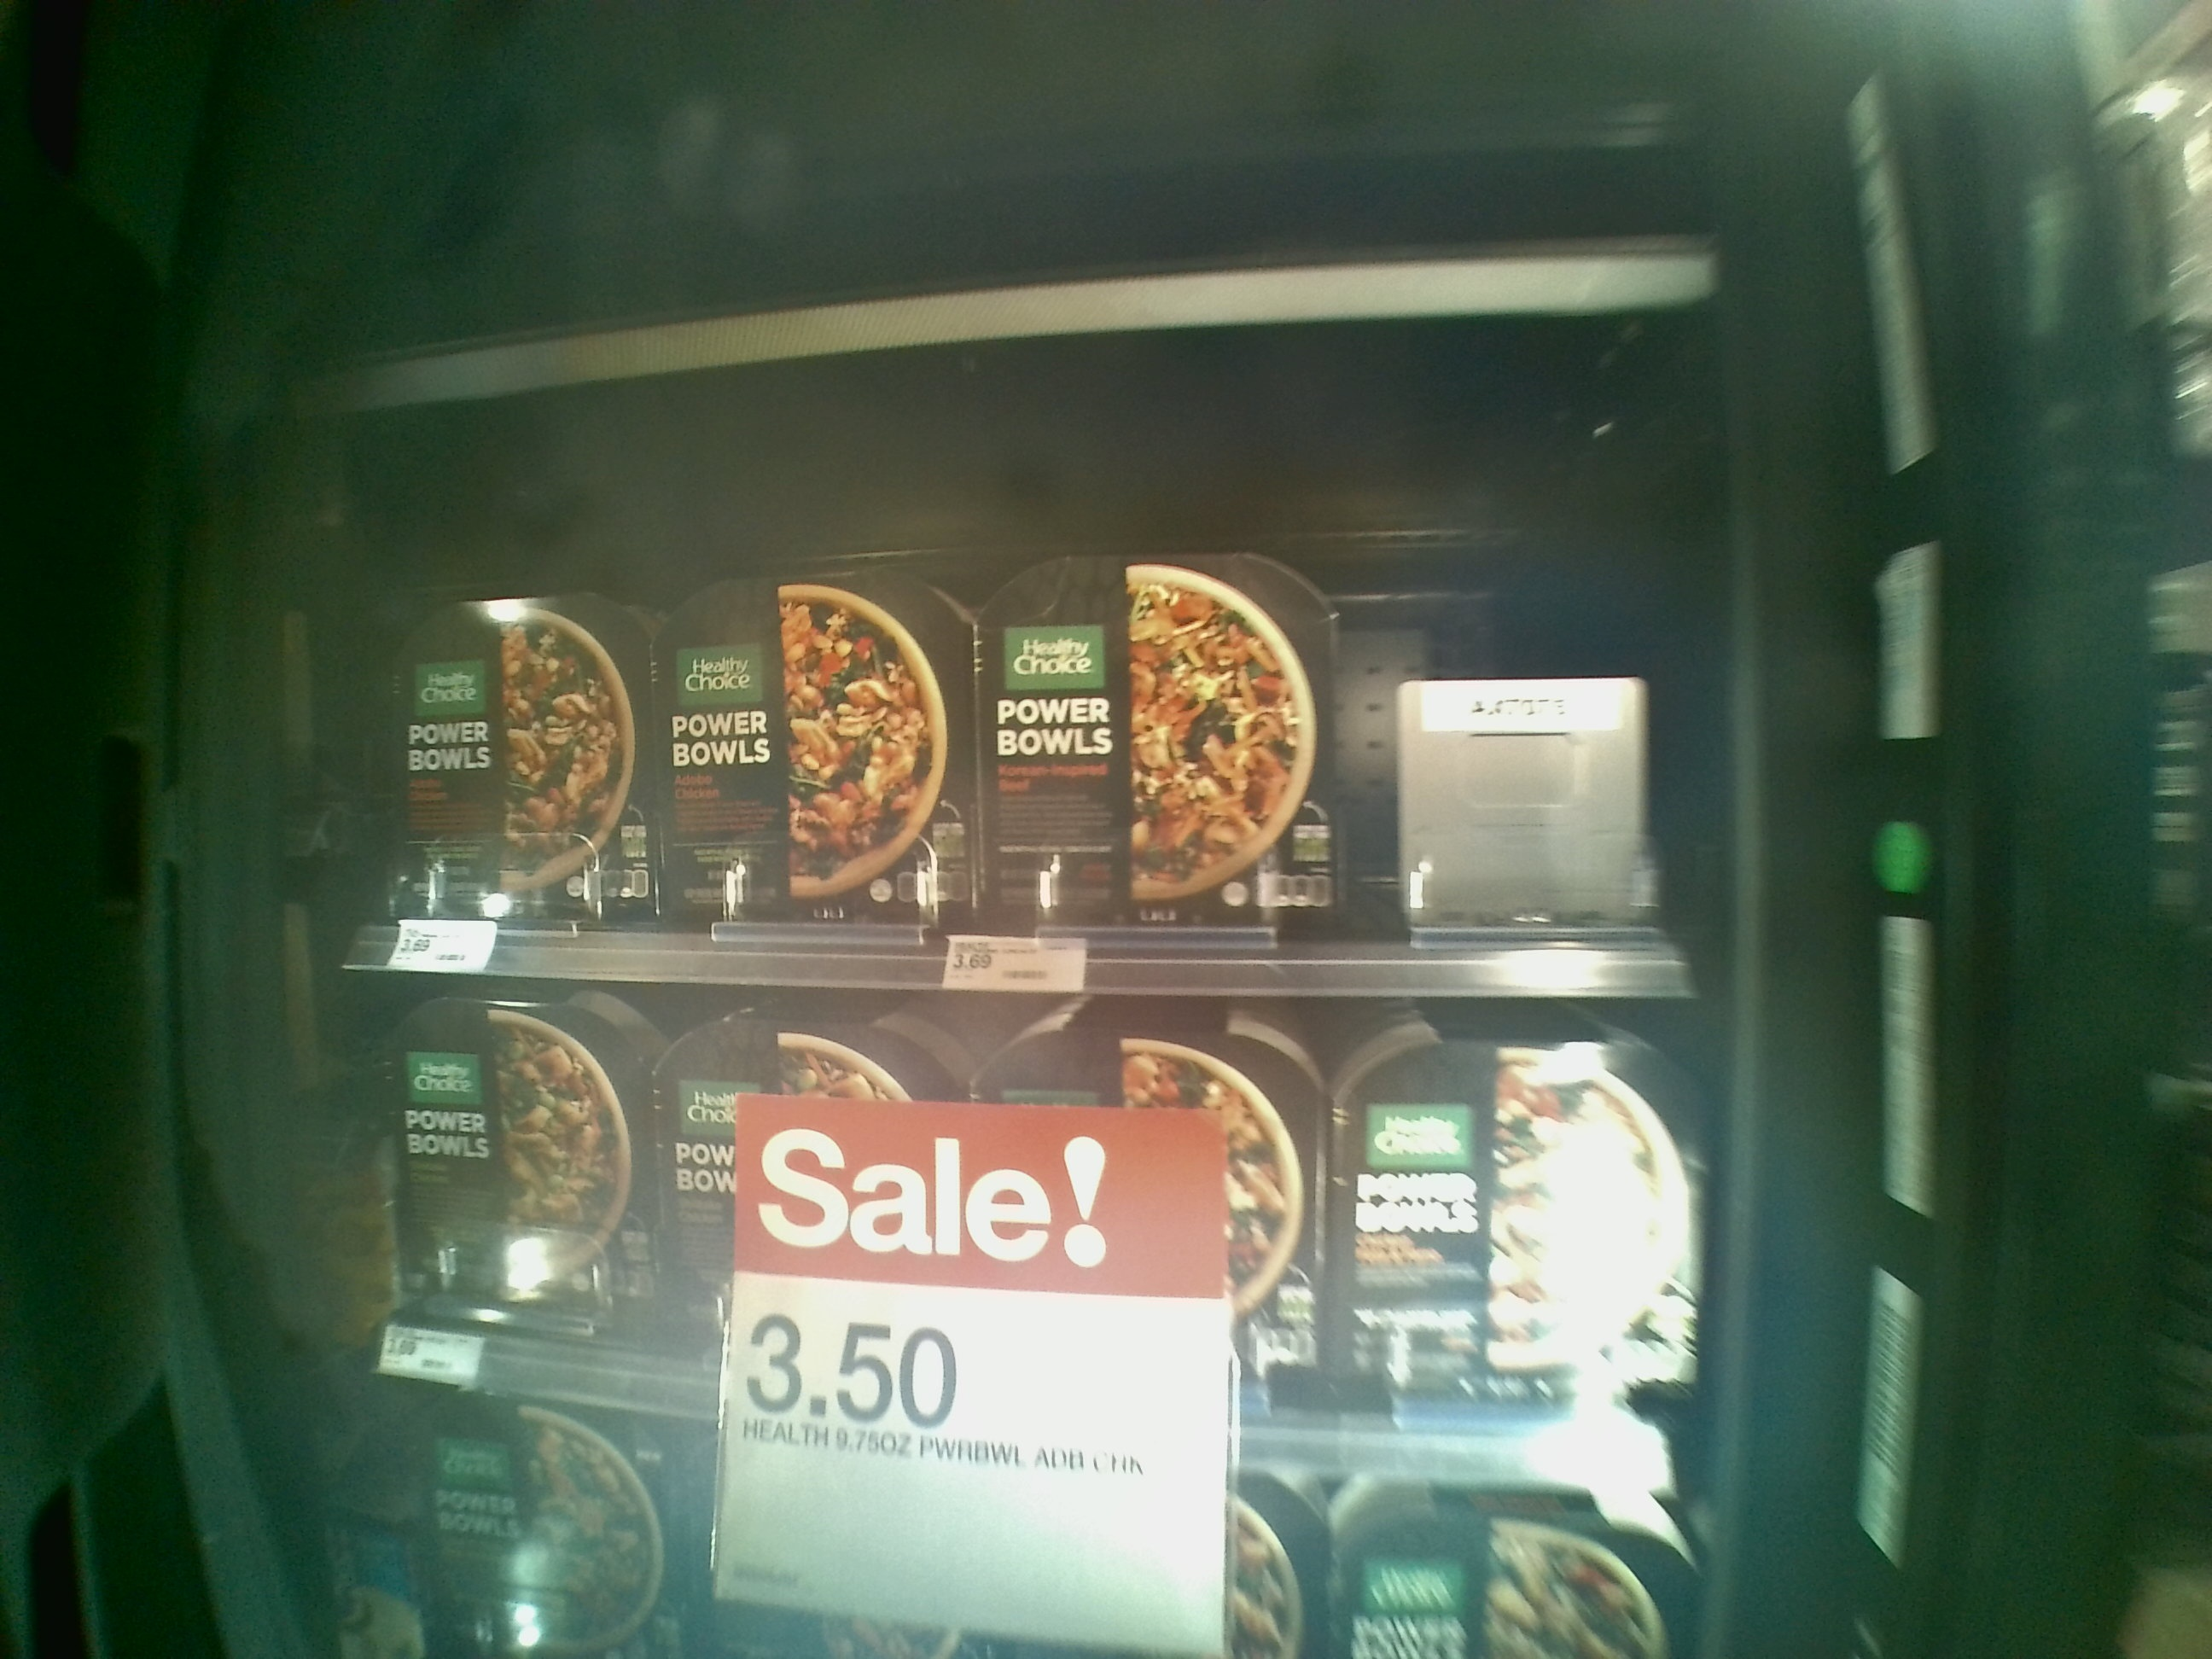shelf: (338, 969, 1716, 1485)
